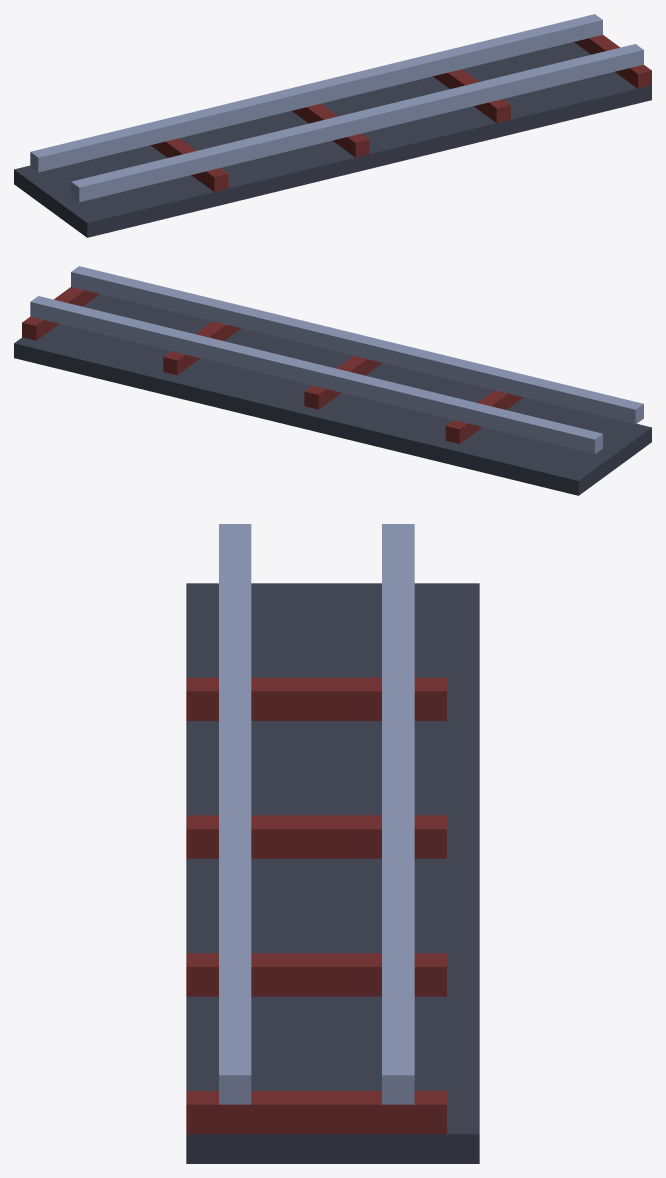
File: RailwayBoundary.obj
3 renders of one model, top to bottom at view 1: azimuth 30°, elevation 25°; view 2: azimuth 150°, elevation 25°; view 3: azimuth 270°, elevation 25°, orthographic. The views are drawn at different scales.
Parts seen in each view (by area): view 1: RailwayBoundary; view 2: RailwayBoundary; view 3: RailwayBoundary.
Boxes of the visible parts, x1,y1,x2,y2 form: RailwayBoundary: (14, 14, 651, 237); RailwayBoundary: (14, 266, 651, 495); RailwayBoundary: (186, 524, 479, 1163).
Size of the model in its own units: 4 by 0.3 by 0.9.
Materials: 1 (1 with a texture image).
